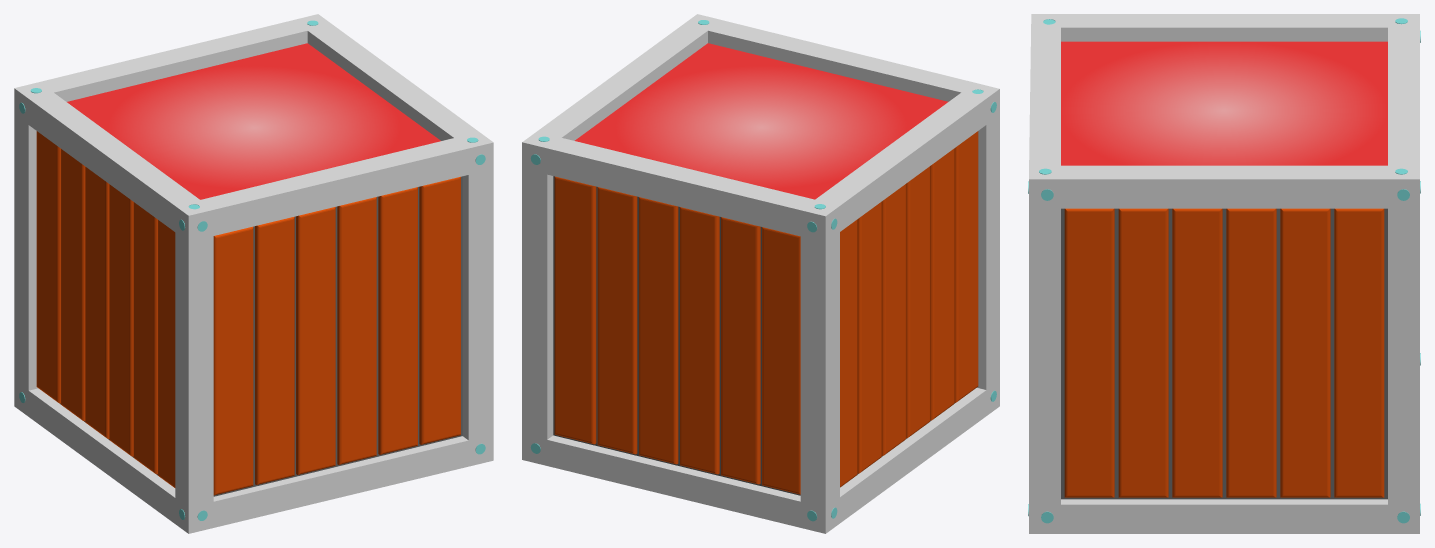
Rendered from GoreBezDaske11.fbx.
The picture shows the model from 3 angles, left to right: view 1: azimuth 30°, elevation 25°; view 2: azimuth 150°, elevation 25°; view 3: azimuth 270°, elevation 25°; orthographic projection. The views are drawn at different scales.
Parts seen in each view (by area): view 1: Cube.204; view 2: Cube.204; view 3: Cube.204.
Boxes of the visible parts, x1,y1,x2,y2 form: Cube.204: (14, 14, 493, 533); Cube.204: (522, 14, 999, 533); Cube.204: (1028, 14, 1420, 533).
Size of the model in its own units: 201 by 200 by 201.
